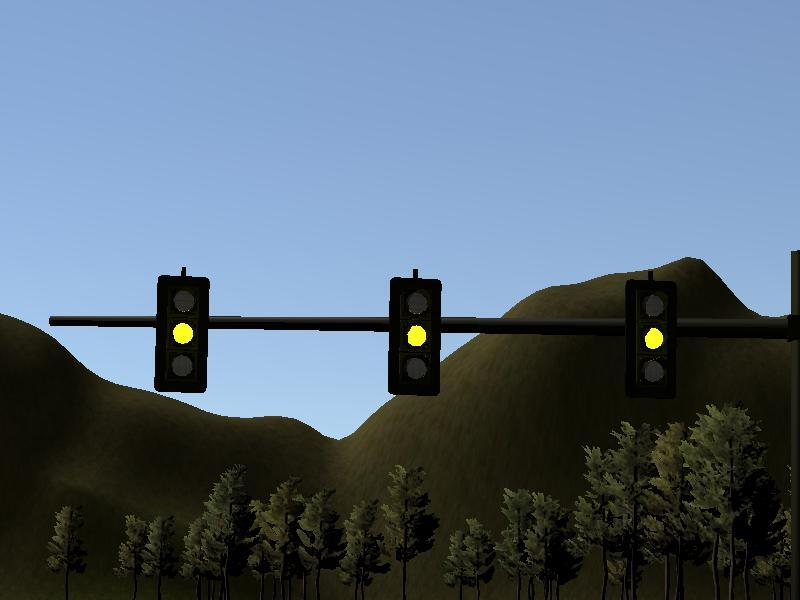Yellow: (155, 275, 207, 393), (625, 279, 677, 397), (387, 278, 439, 396)
